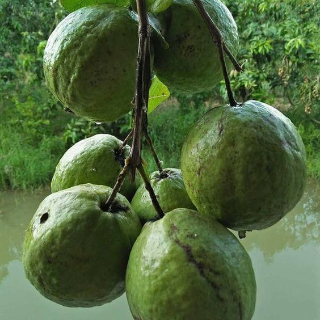oi: (181, 101, 306, 229), (44, 5, 143, 121)
